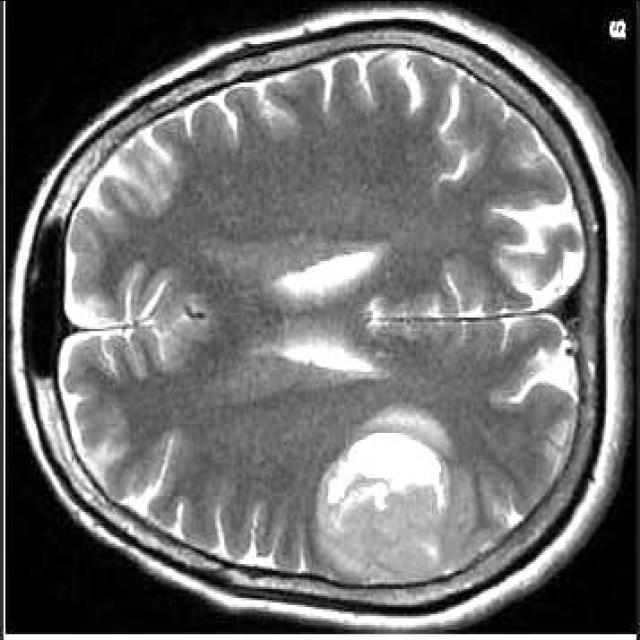tumor: (316, 427, 484, 583)
